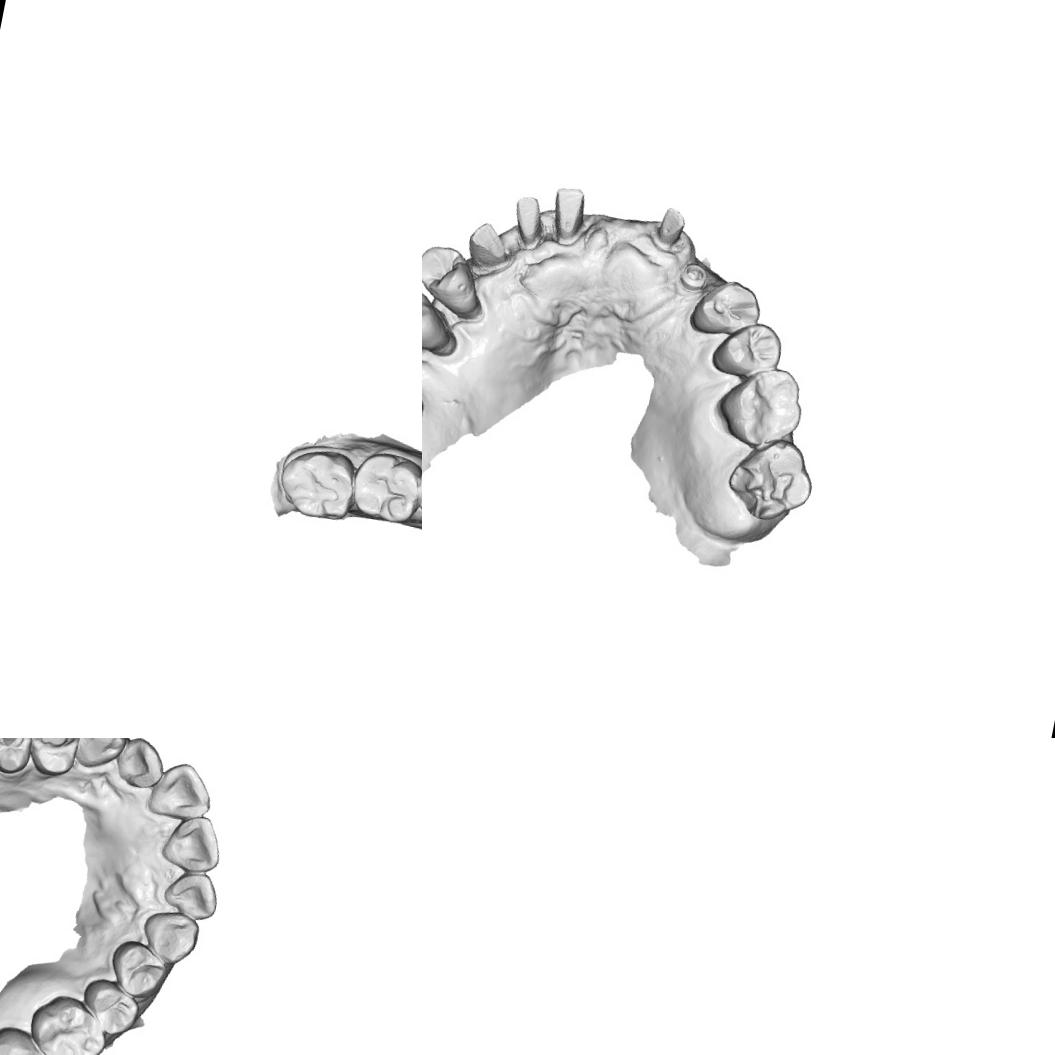canine: (136, 905, 202, 969), (66, 738, 128, 774)
crown: (461, 218, 516, 280), (544, 182, 592, 248), (506, 193, 550, 252), (646, 201, 690, 256)
implant: (674, 260, 710, 296)
incisor: (142, 754, 219, 827), (155, 808, 229, 878), (157, 866, 223, 926), (111, 738, 170, 791)
molar: (721, 429, 820, 529), (709, 358, 809, 455), (271, 441, 360, 526), (345, 444, 422, 528), (19, 987, 114, 1055), (0, 1020, 64, 1055)
premolar: (686, 273, 765, 343), (708, 314, 786, 383), (422, 239, 488, 319), (104, 936, 173, 1004), (75, 974, 144, 1040), (22, 738, 84, 782), (422, 283, 457, 354), (0, 738, 35, 778)
